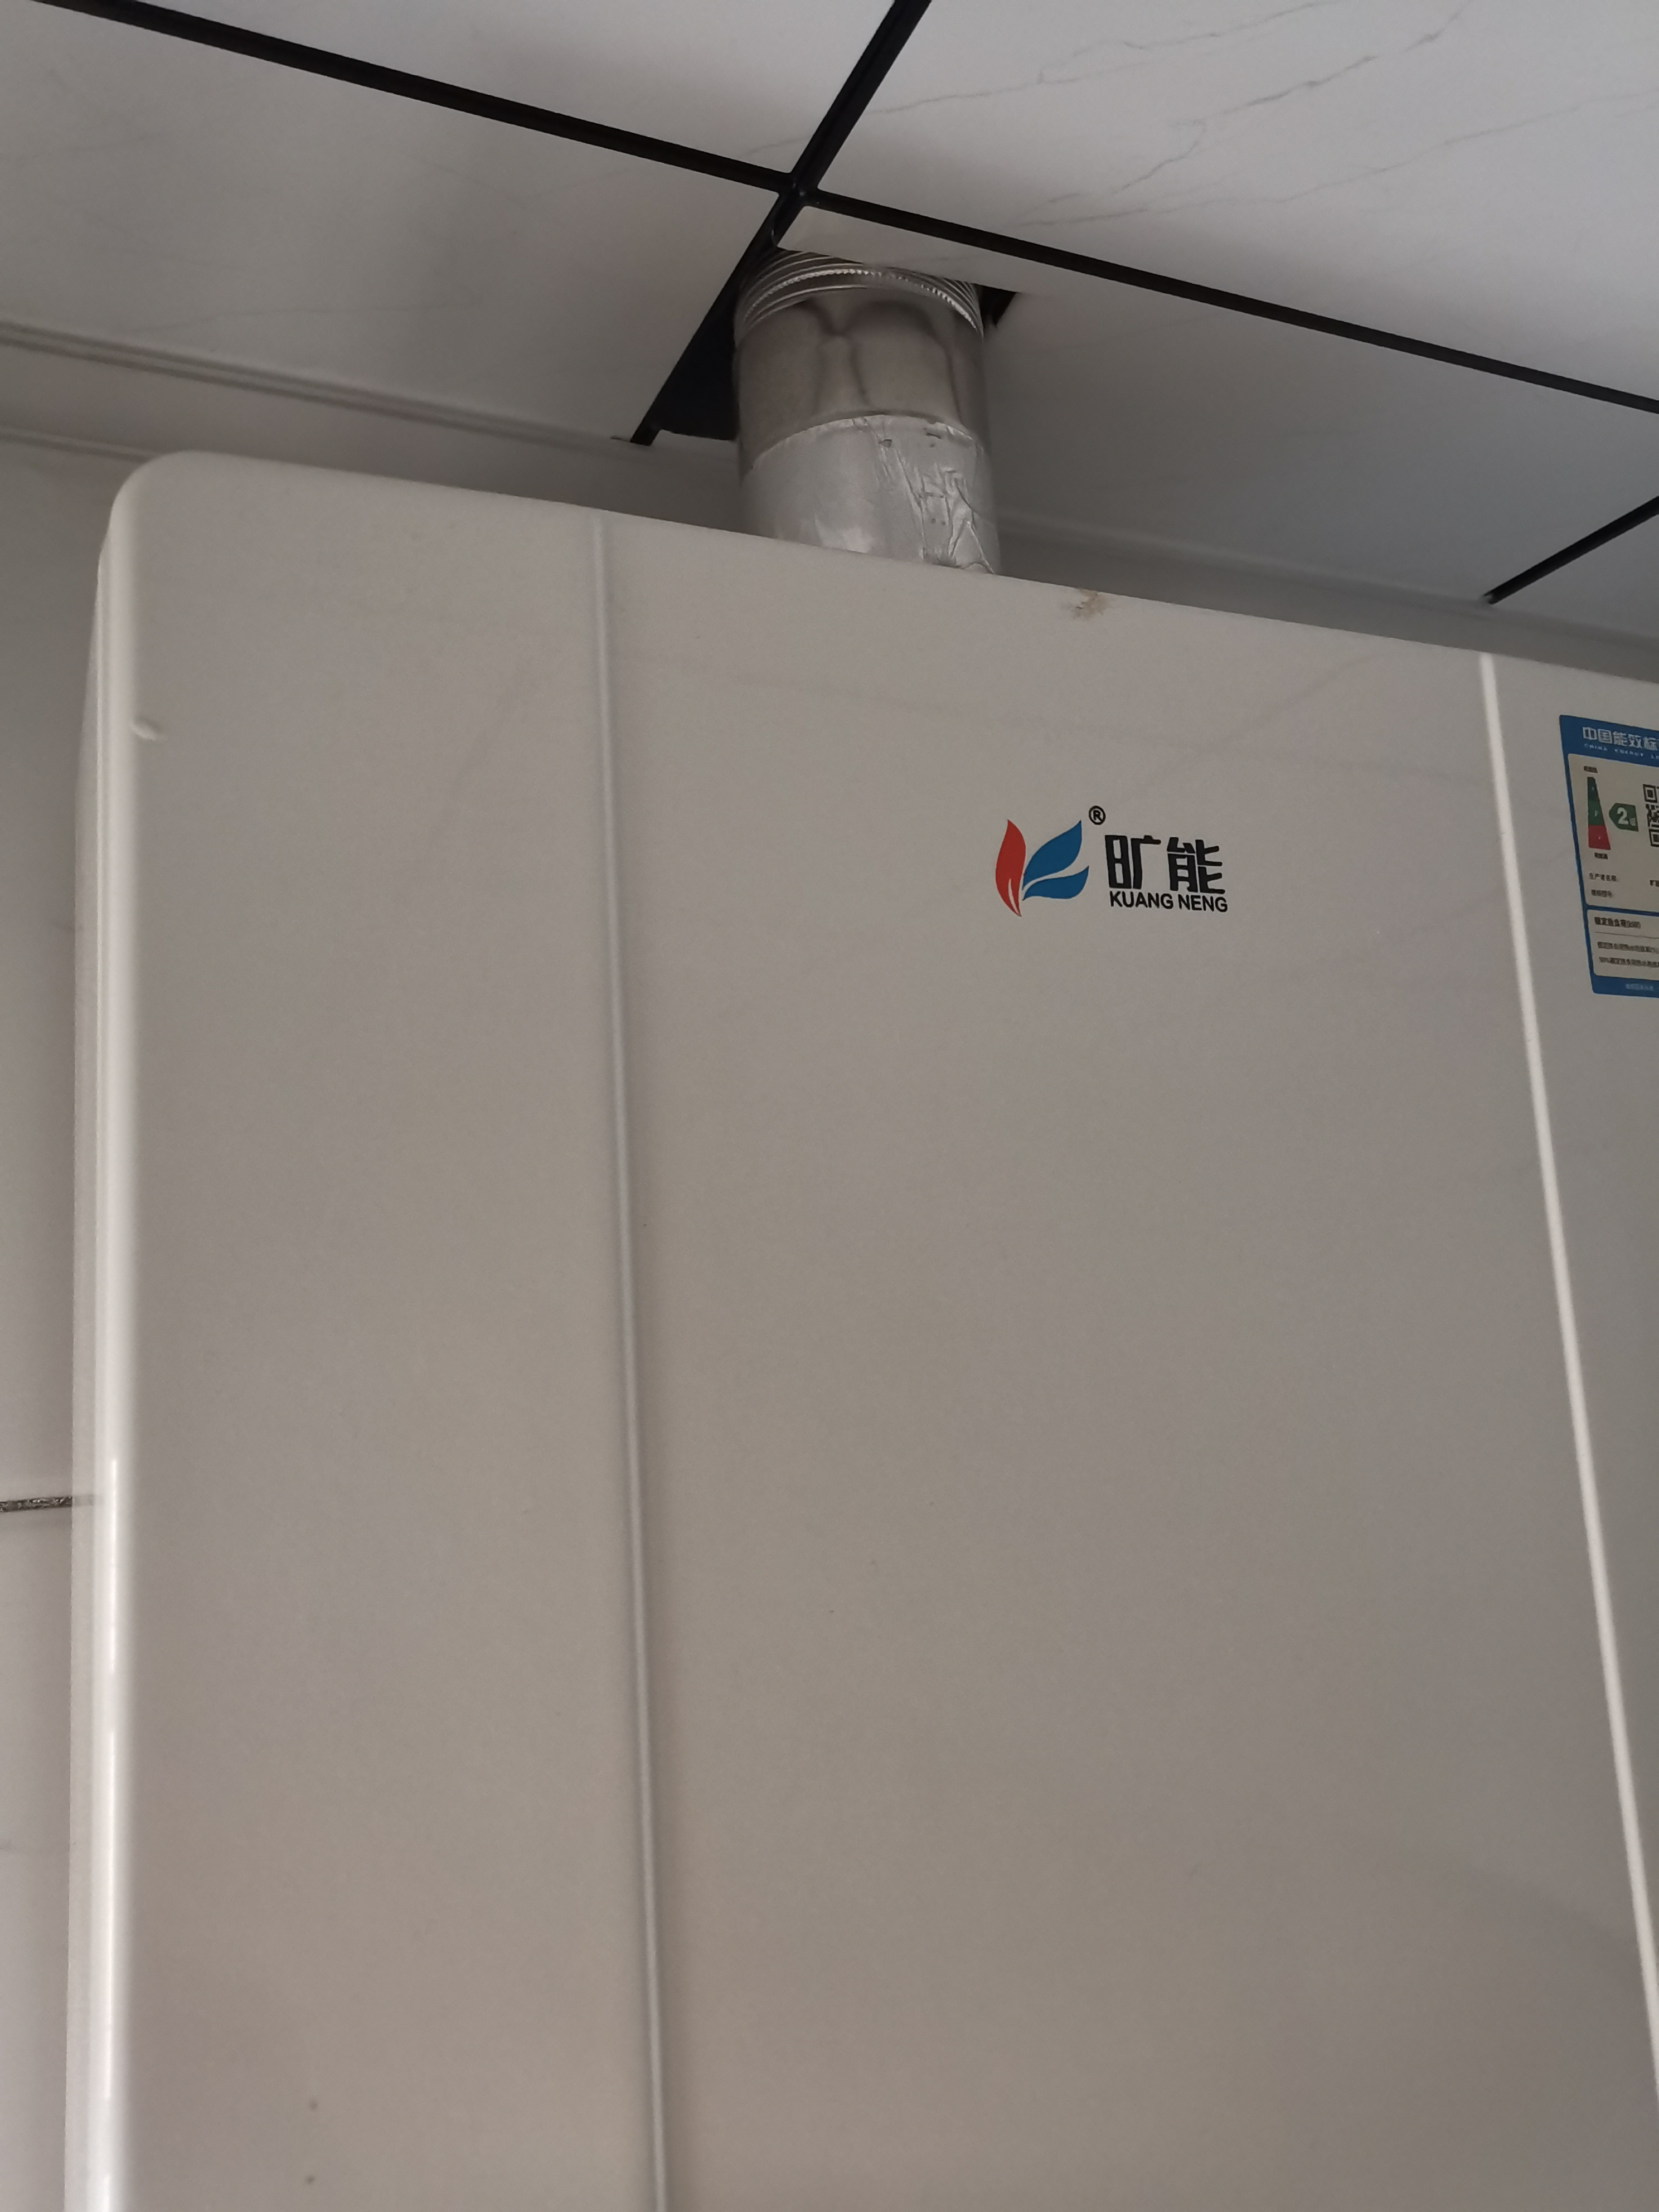loudou: (981, 780, 1260, 944)
